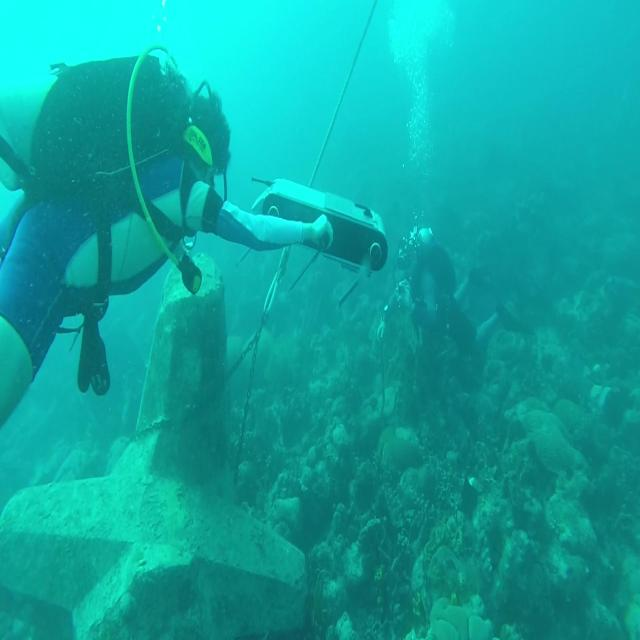human: (0, 46, 334, 429), (388, 214, 534, 390)
